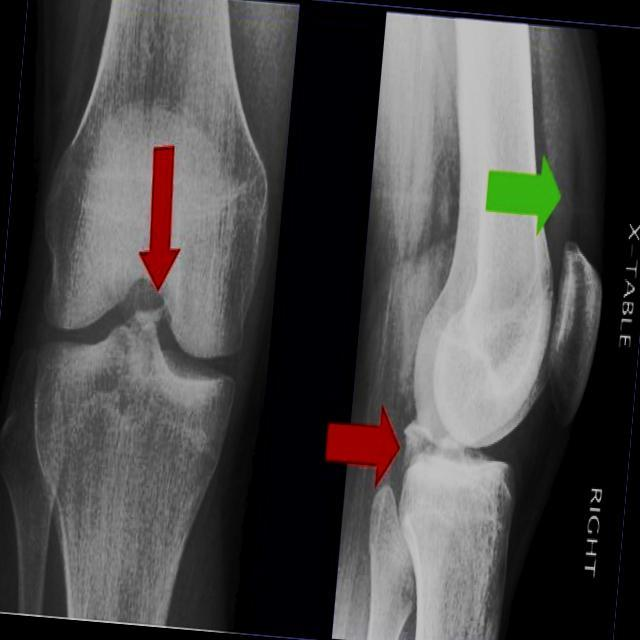Avlusion Fracture: (400, 408, 437, 466), (134, 284, 172, 332)
